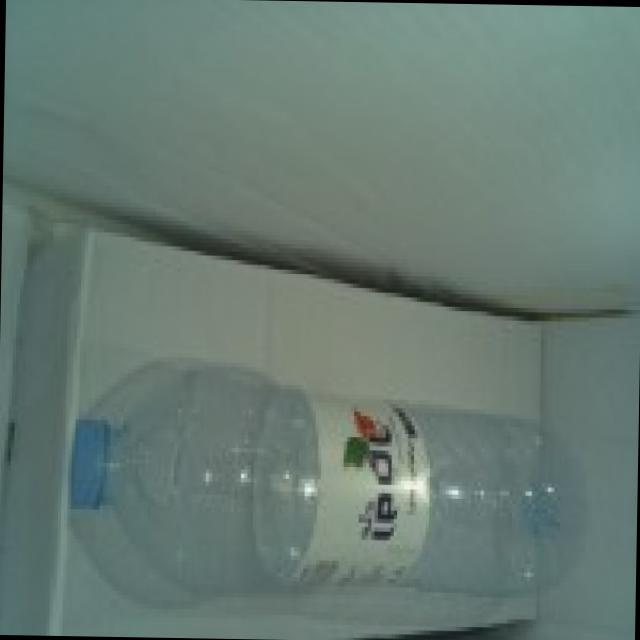good: (52, 323, 606, 638)
